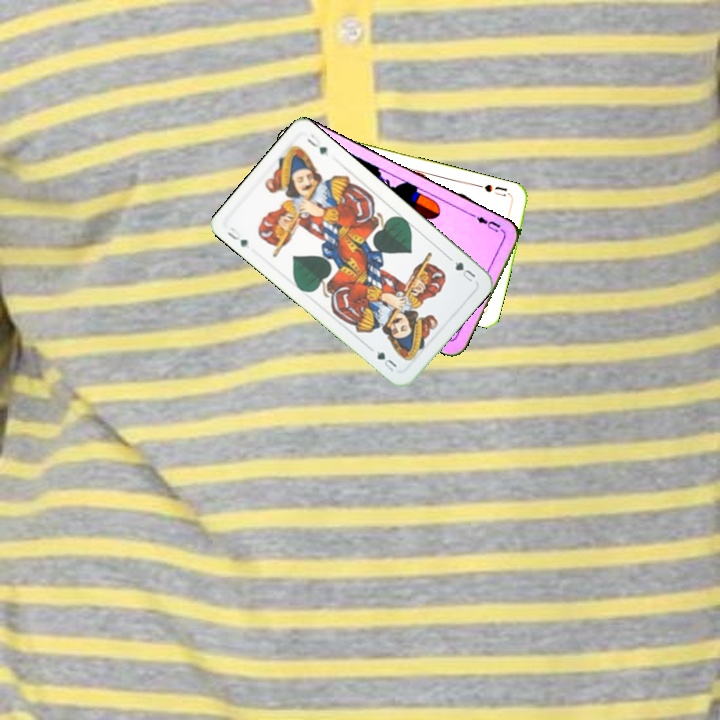EU: (469, 210, 507, 235)
GU: (450, 257, 478, 285), (223, 223, 250, 250)
SU: (480, 180, 514, 201)
